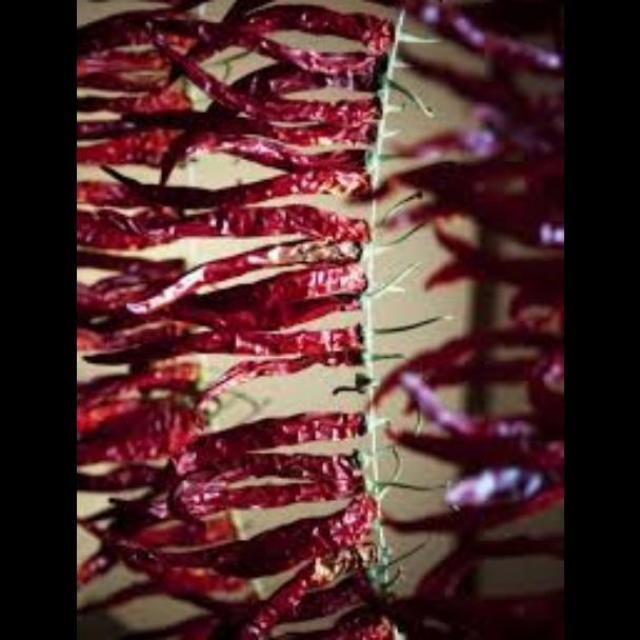hot pepper: (77, 0, 530, 640)
